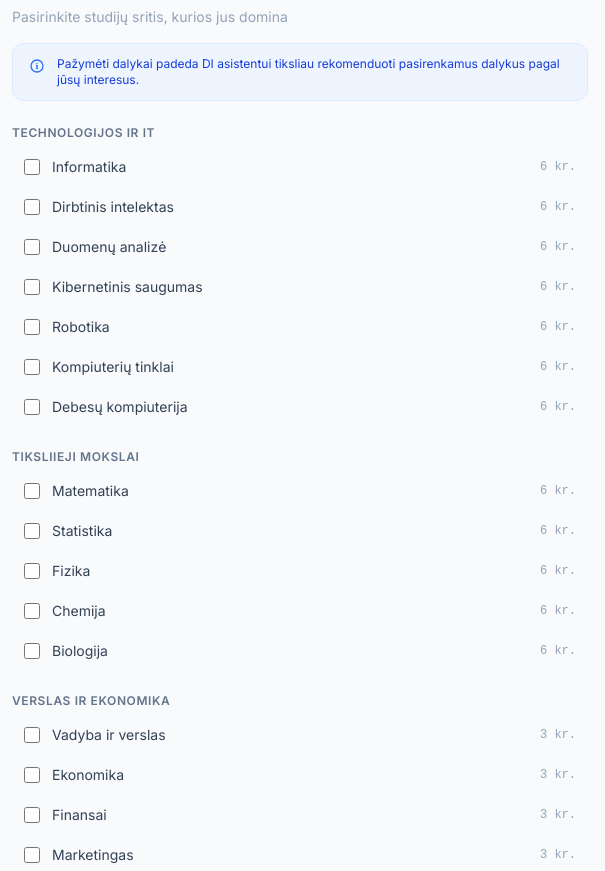
it: SCRUM-71, SCRUM-72: DominantSubjectsPage › SCRUM-72: mygtukas aktyvus kai pažymėtas bent vienas dalykas
Click the checkbox labelled "Informatika 6 kr." at (32, 167), box [24, 159, 40, 175]
(page scrolled)
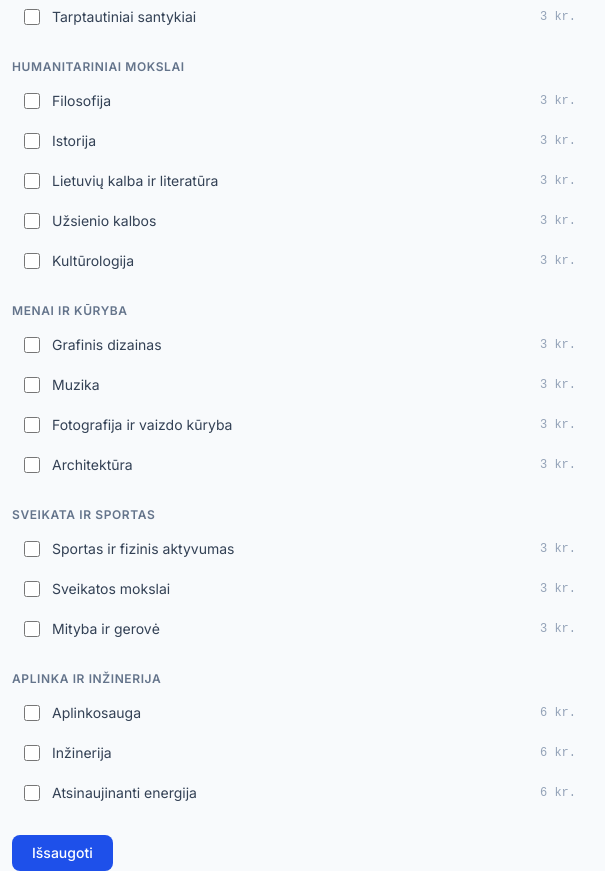
Now the button "Išsaugoti" is enabled, box [12, 835, 113, 870]
